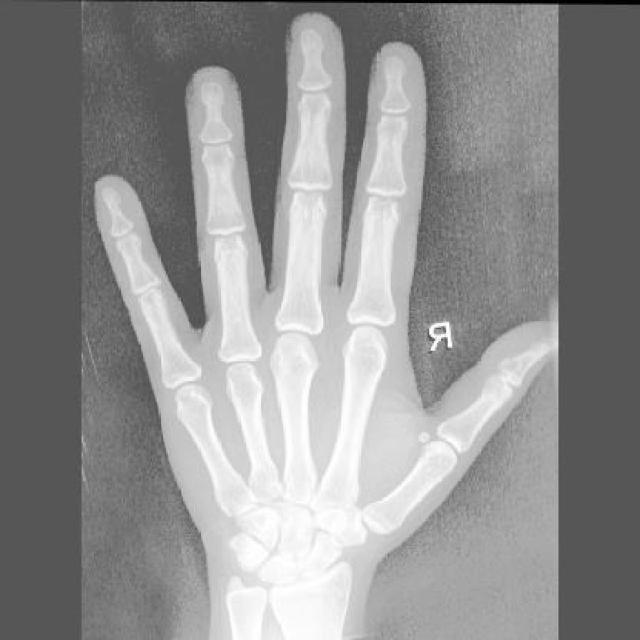Fracture: (245, 409, 268, 442)
